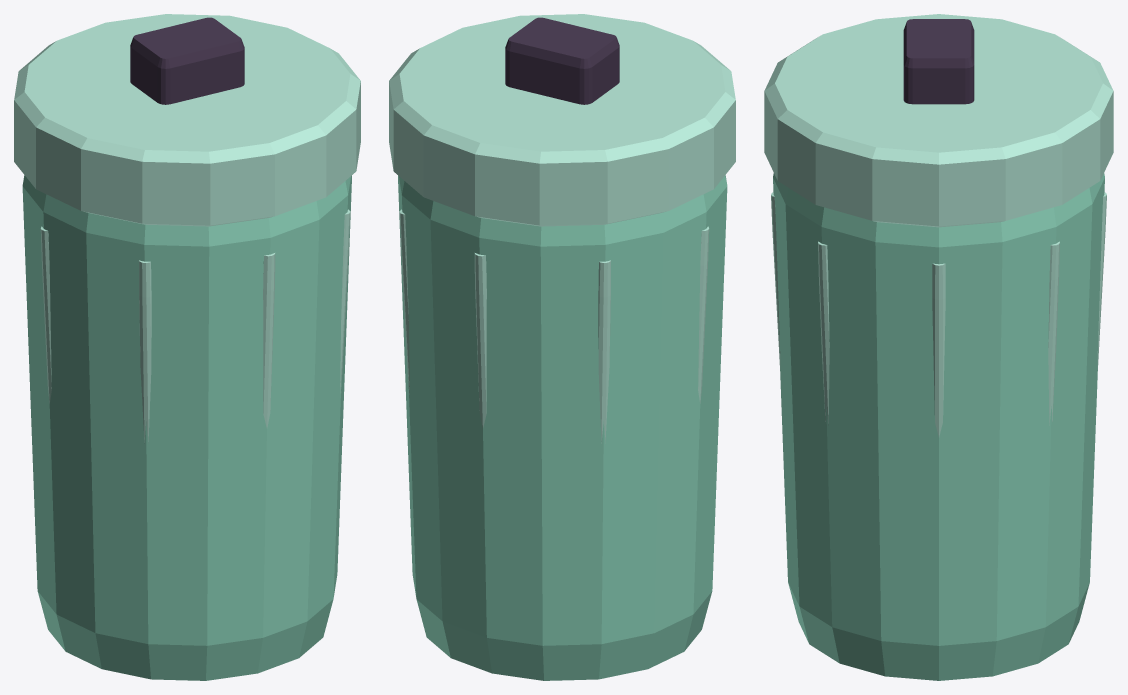
Rendered from trash_can.glb.
3 views of the same model, side by side, from view 1: azimuth 30°, elevation 25°; view 2: azimuth 150°, elevation 25°; view 3: azimuth 270°, elevation 25° (orthographic).
Visible parts, largest first — view 1: model; view 2: model; view 3: model.
Boxes of the visible parts, x1,y1,x2,y2 form: model: (14,14,360,680); model: (389,14,735,680); model: (764,14,1113,680).
Size of the model in its own units: 0.38 by 0.7 by 0.38.
